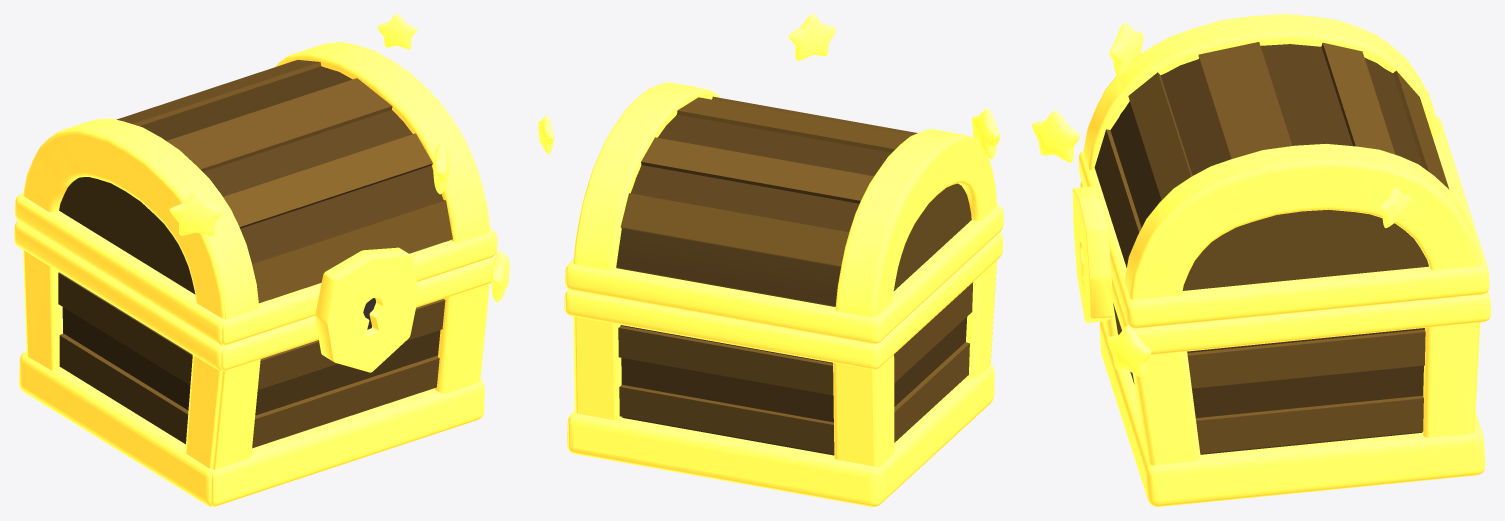
The model's file is africachest1.glb.
3 renders of one model, left to right at view 1: azimuth 30°, elevation 25°; view 2: azimuth 150°, elevation 25°; view 3: azimuth 270°, elevation 25°, orthographic. The views are drawn at different scales.
Parts seen in each view (by area): view 1: Box004.019; view 2: Box004.019; view 3: Box004.019.
Part boxes in pixels (<box>): Box004.019: <box>14,14,509,506</box>; Box004.019: <box>538,14,1003,506</box>; Box004.019: <box>1032,14,1490,506</box>.
Bounding box in the file's own units: 0.0133 × 0.0113 × 0.0132.
